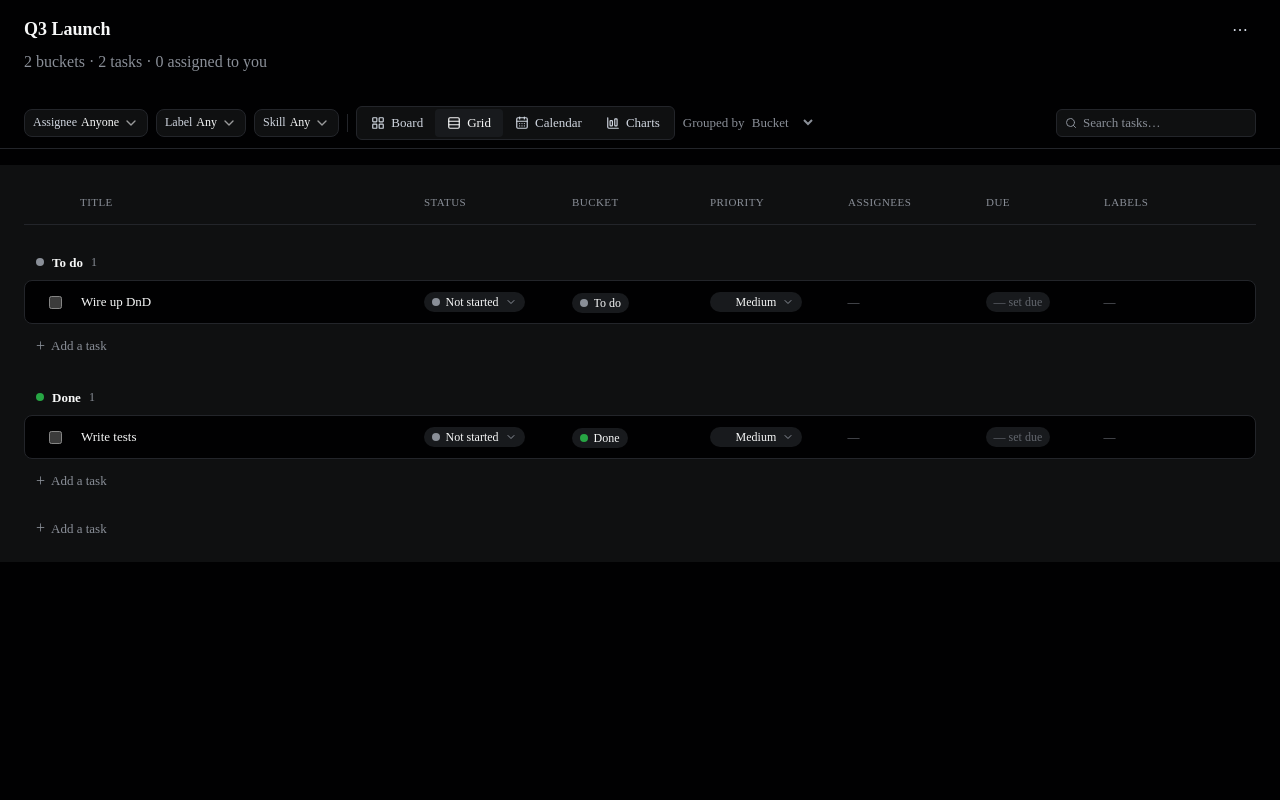
Test: PlanGridPage (via PlanBoardShell) › shift-click range selection drives bulk footer count
Expected: the button "Wire up DnD" is shown, [81,292,388,312]
Click the checkbox named "Select Wire up DnD": (55, 302) [48,296,62,308]
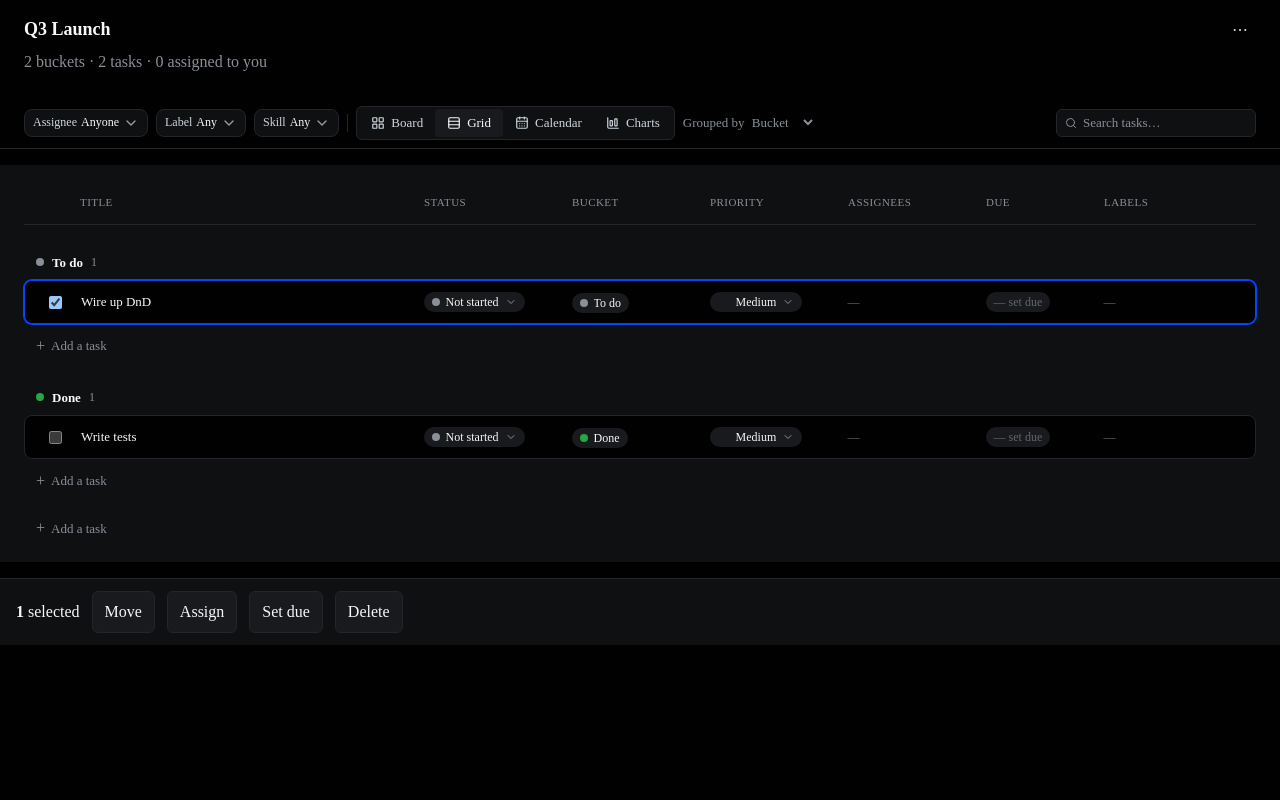
Click the checkbox named "Select Write tests": (55, 437) [48,430,62,444]
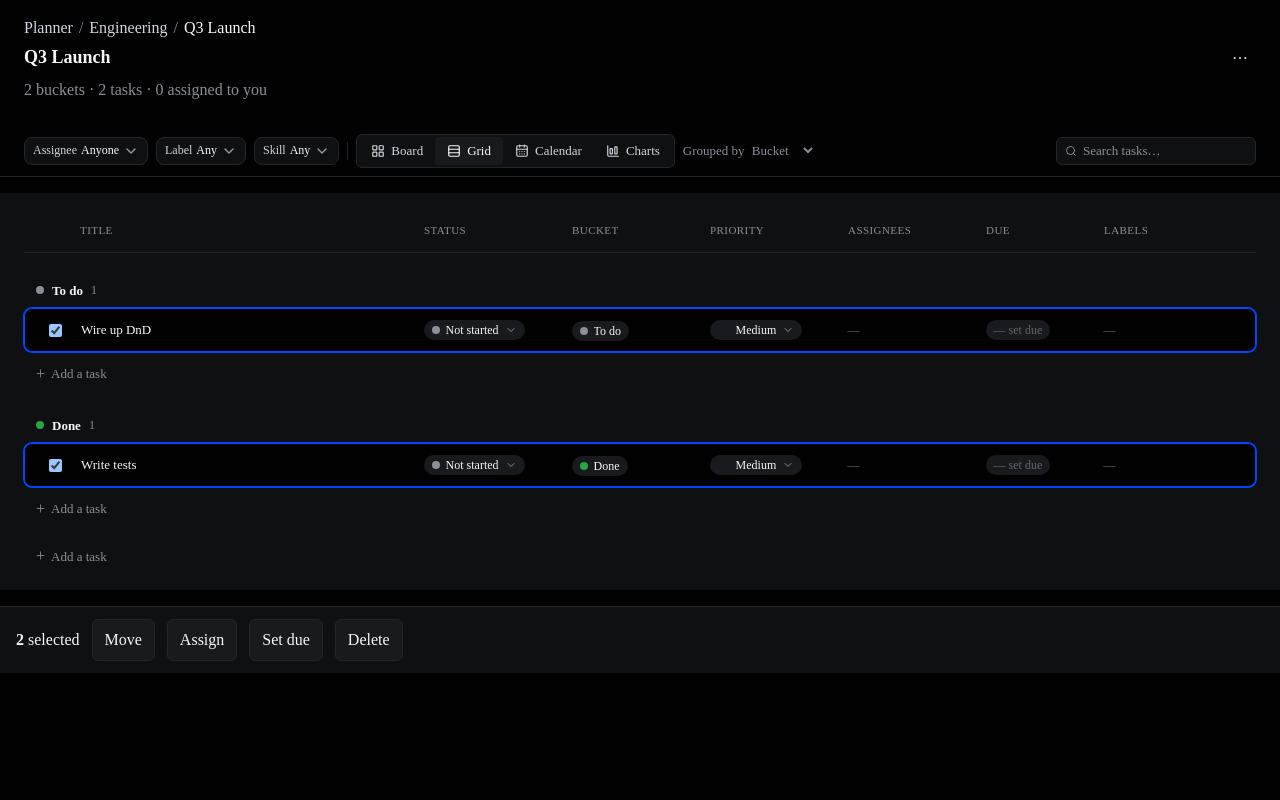
Now the footer named "2 tasks selected" is shown, box [0,606,1279,673]
